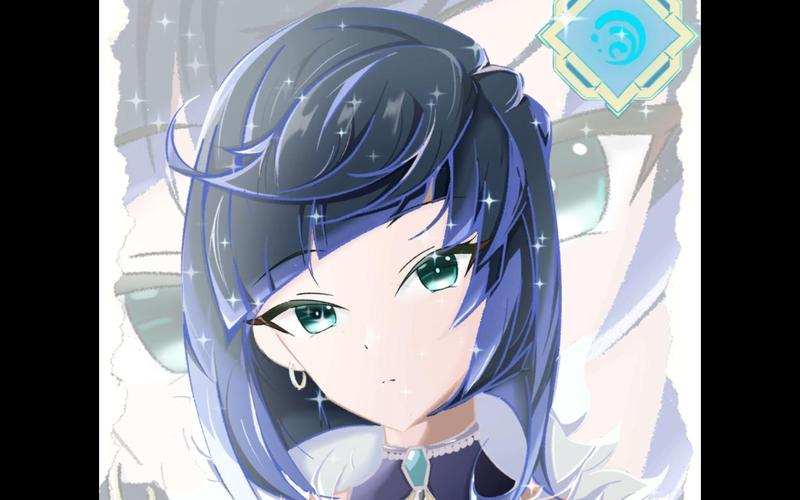夜兰: (172, 6, 589, 500)
